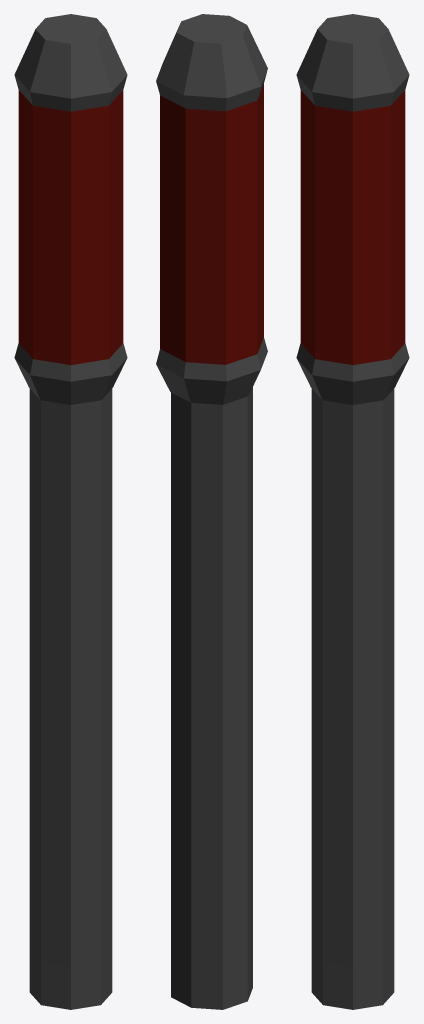
The model's file is ForemanAntenna.glb.
3 views of the same model, side by side, from view 1: azimuth 90°, elevation 25°; view 2: azimuth 150°, elevation 25°; view 3: azimuth 270°, elevation 25° (orthographic).
Visible parts, largest first — view 1: Antenna; view 2: Antenna; view 3: Antenna.
Part boxes in pixels (x1,y1,x2,y2): Antenna: (14, 14, 127, 1009); Antenna: (156, 14, 267, 1009); Antenna: (296, 14, 409, 1009).
Bounding box in the file's own units: 0.0629 × 0.5911 × 0.0629.
